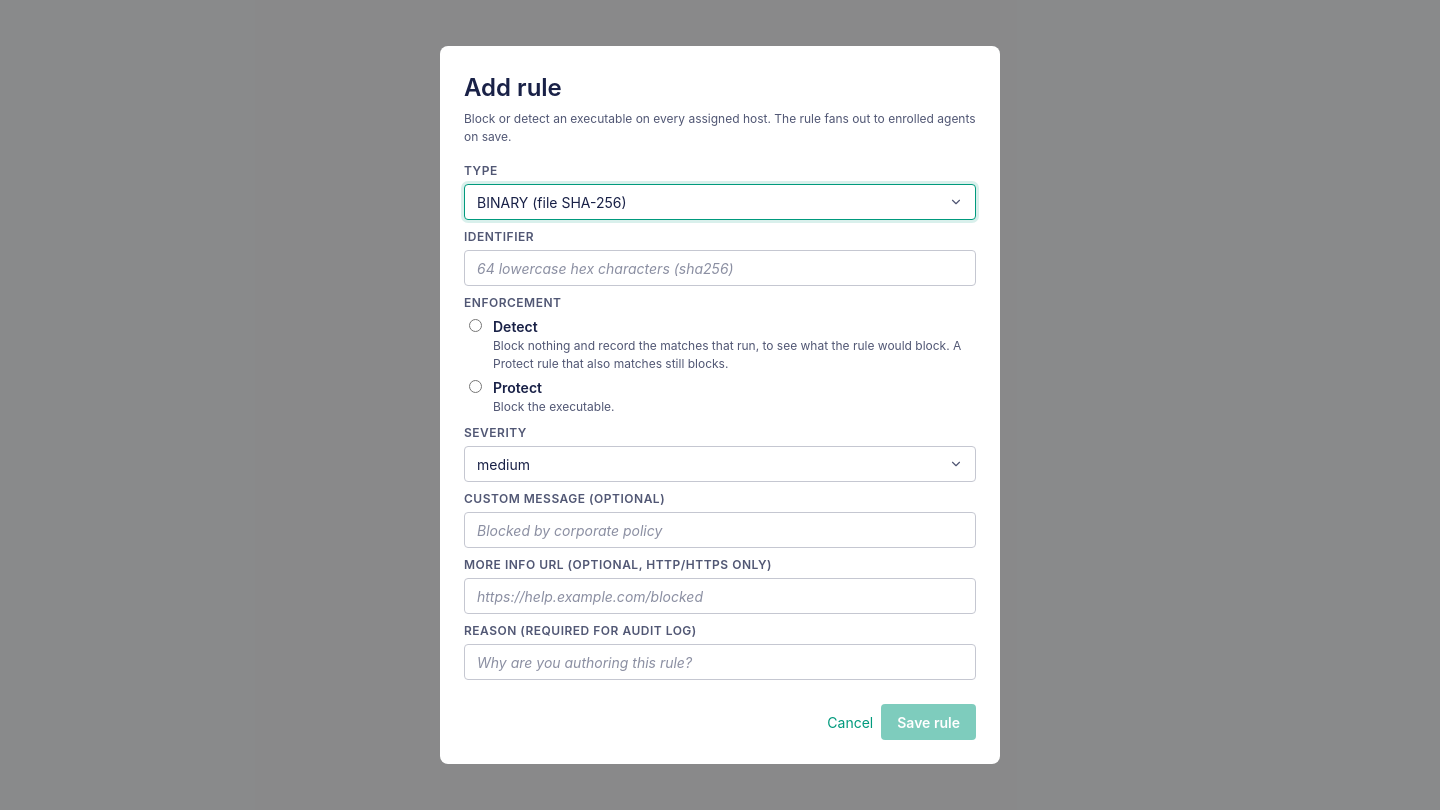
AddRuleModal › rejects an identifier that is not 64 lowercase hex characters
The image size is (1440, 810).
Type "not-a-real-hash" into the field labelled "Identifier" at (720, 268), box [464, 250, 976, 286]
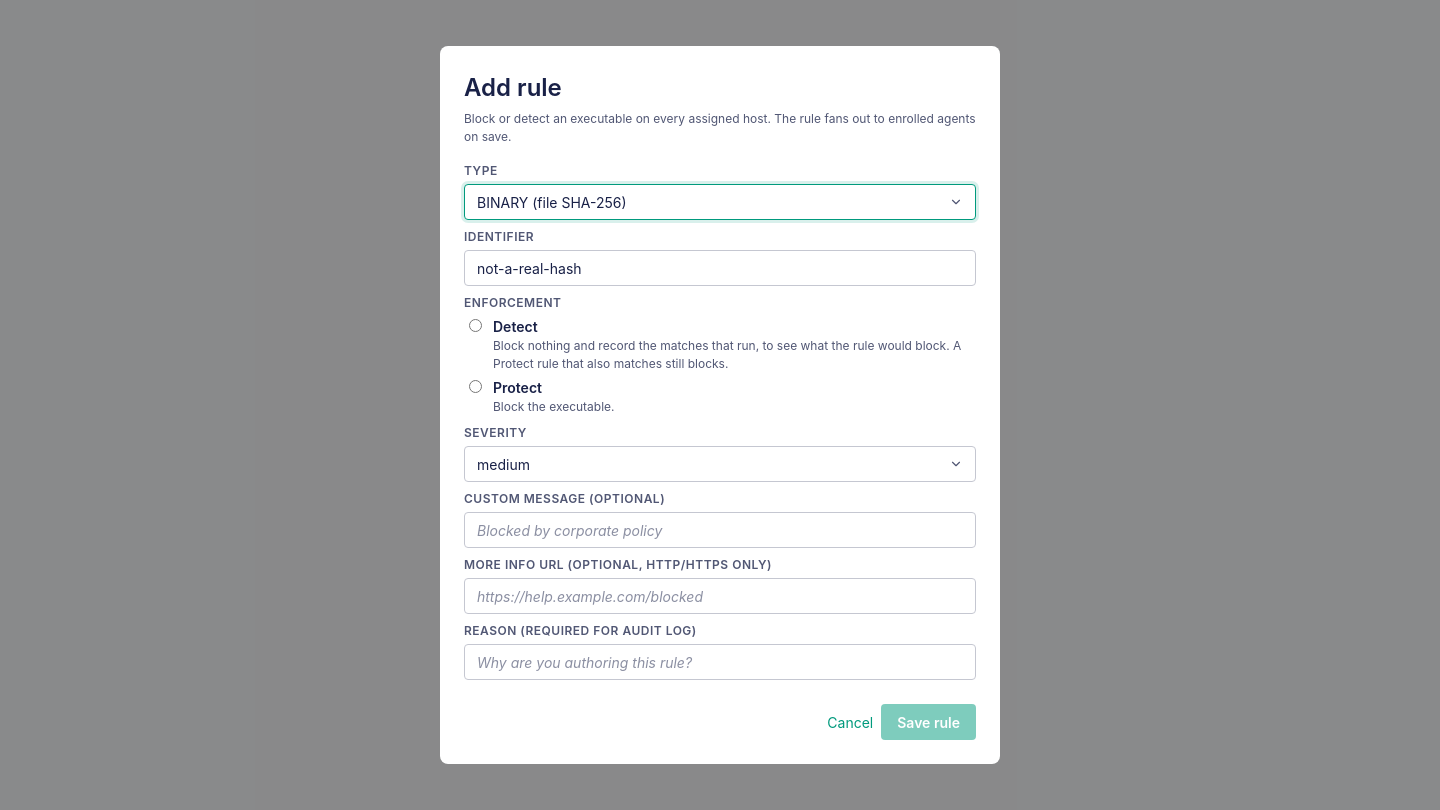
Type "demo" into the field labelled "Reason (required for audit log)" at (720, 662), box [464, 644, 976, 680]
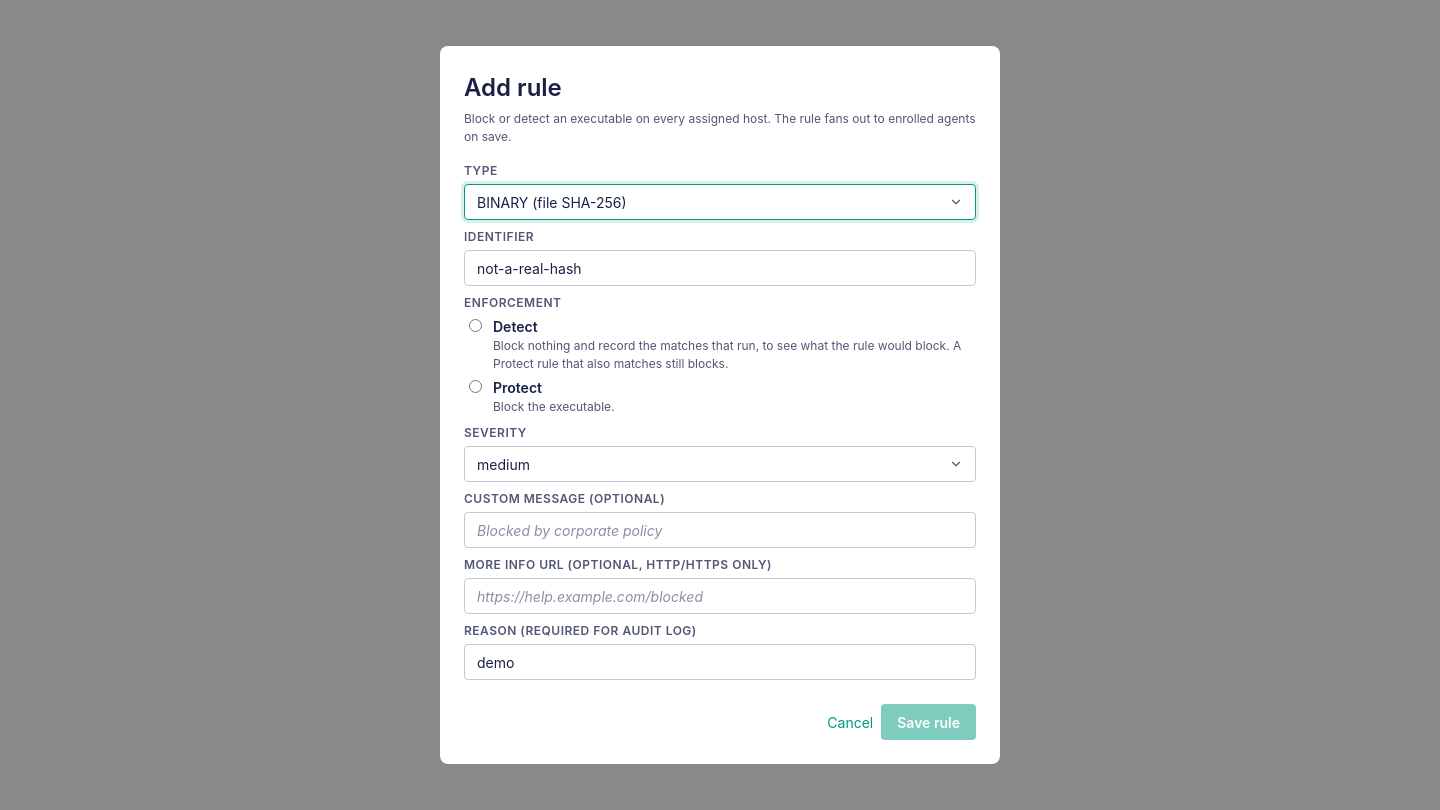
Click the radio button labelled "Protect" at (476, 386), box [469, 380, 482, 393]
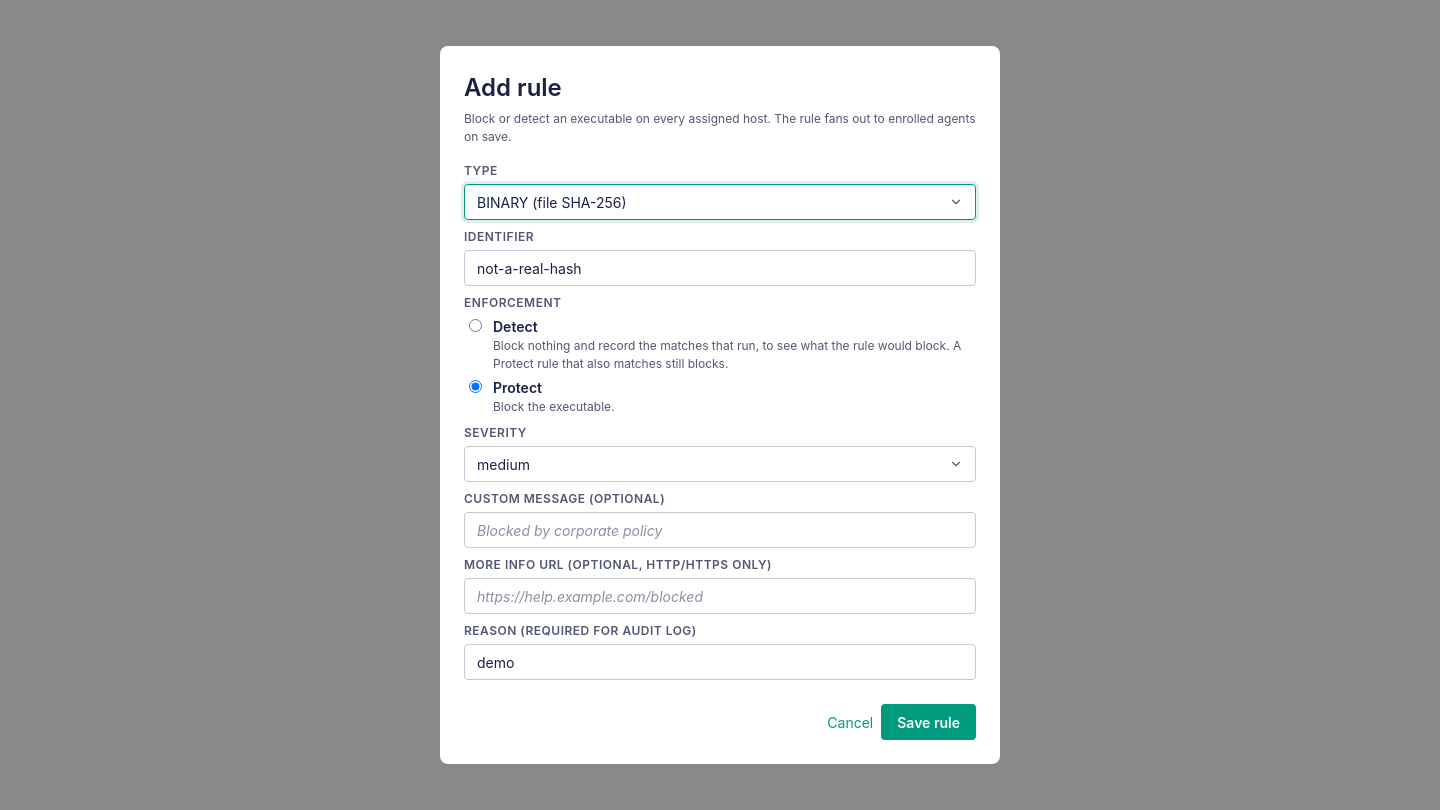
Click the button "Save rule" at (929, 722), box [881, 704, 976, 740]
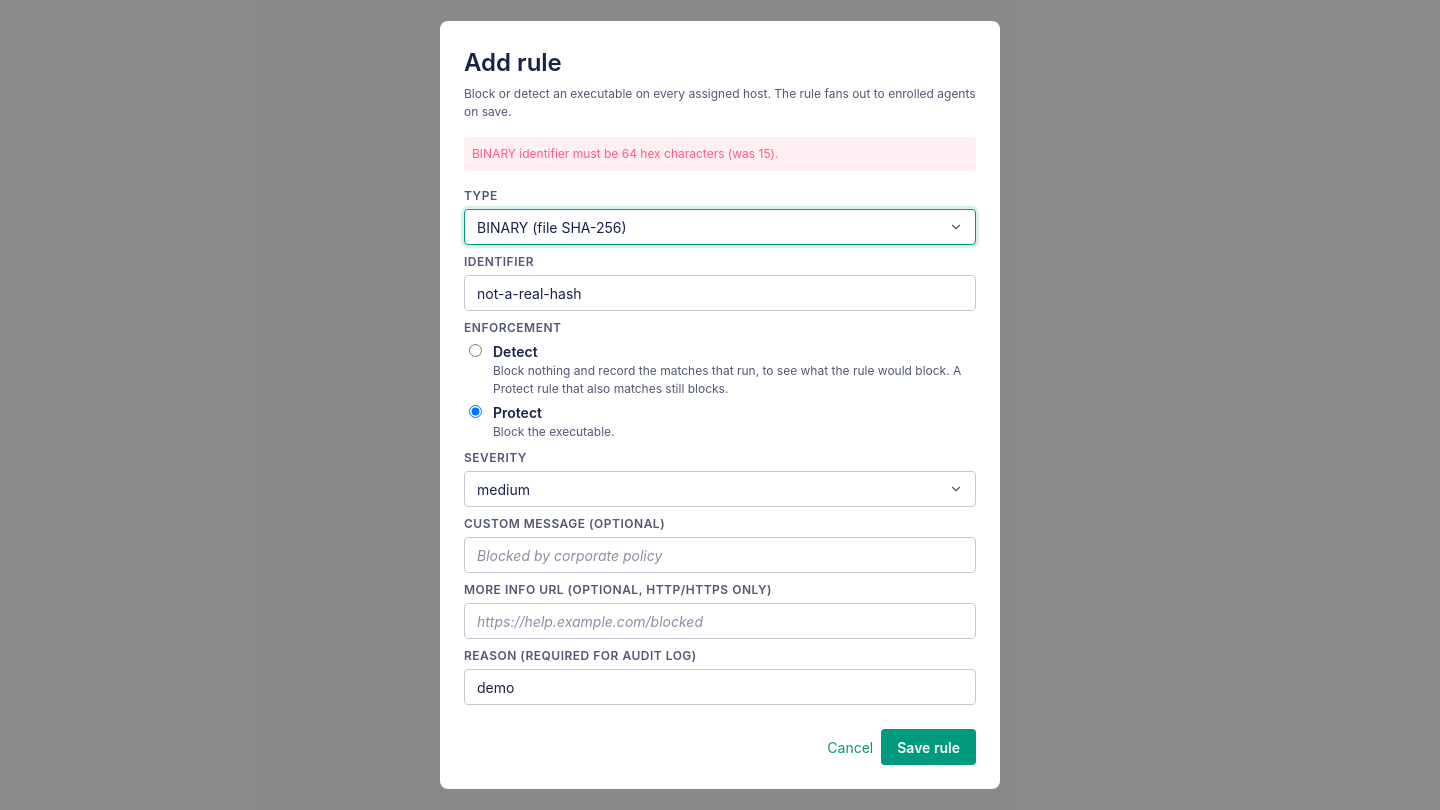
Now the message shows "BINARY identifier", box [472, 146, 778, 161]
